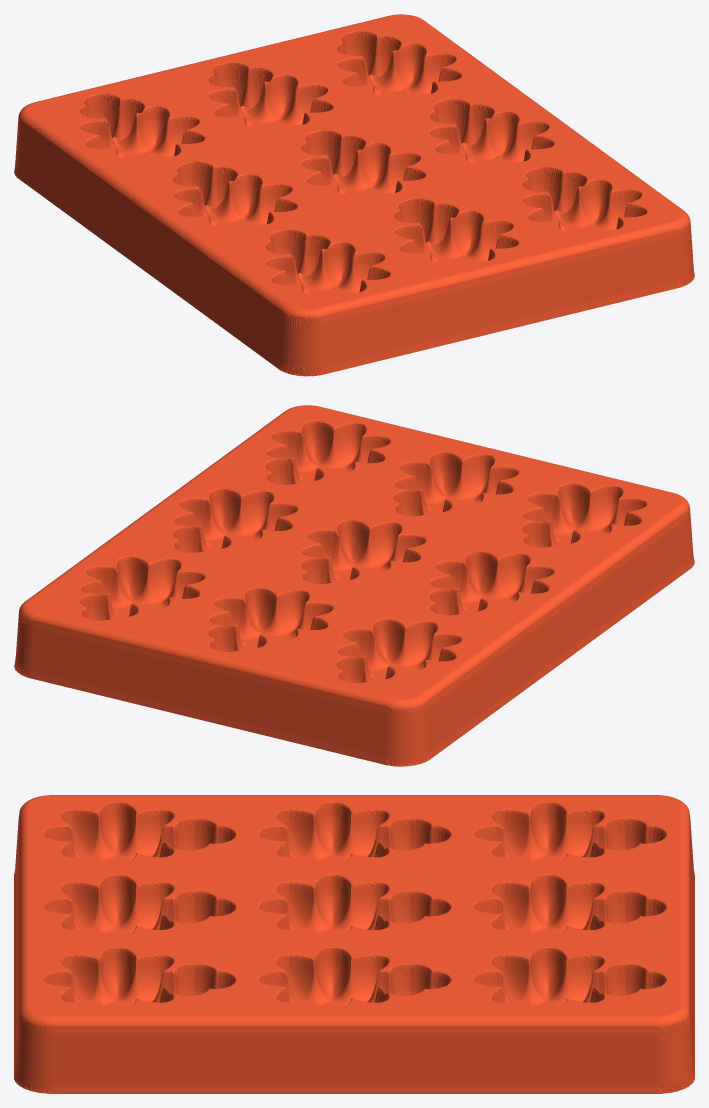
The model's file is mold.glb.
3 views of the same model, one above another, from view 1: azimuth 30°, elevation 25°; view 2: azimuth 150°, elevation 25°; view 3: azimuth 270°, elevation 25° (orthographic). The views are drawn at different scales.
Visible parts, largest first — view 1: geometry_0; view 2: geometry_0; view 3: geometry_0.
Boxes of the visible parts, bbox=[...] form: geometry_0: bbox=[14, 14, 694, 376]; geometry_0: bbox=[14, 405, 694, 766]; geometry_0: bbox=[14, 795, 694, 1093].
Size of the model in its own units: 0.1291 by 0.0185 by 0.1595.
